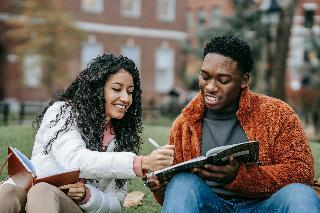person - v3 P: (148, 36, 319, 212), (0, 54, 174, 212)
